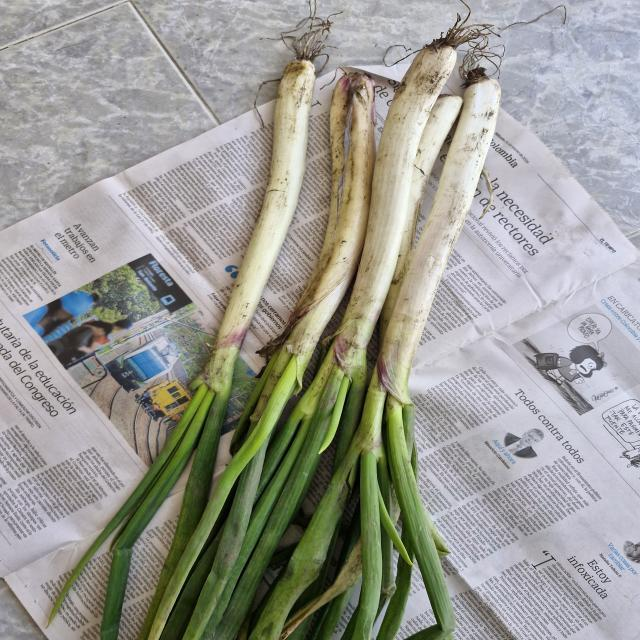green_onion: (37, 55, 322, 640), (301, 55, 509, 640)
